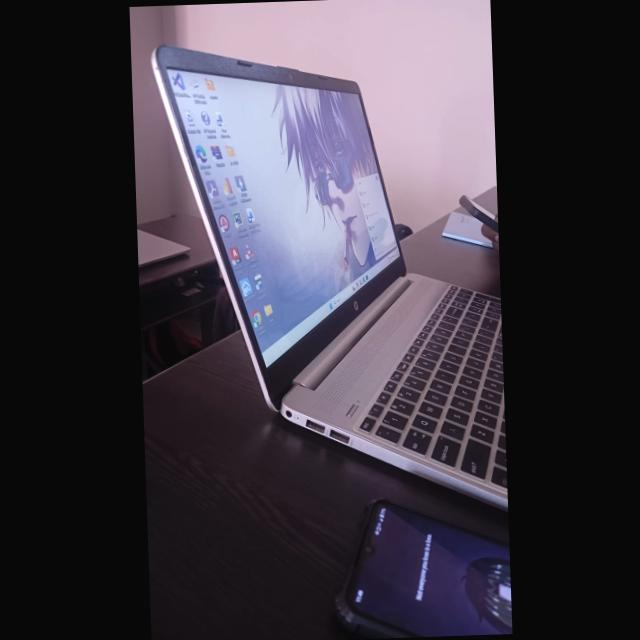laptop: (160, 15, 507, 484)
